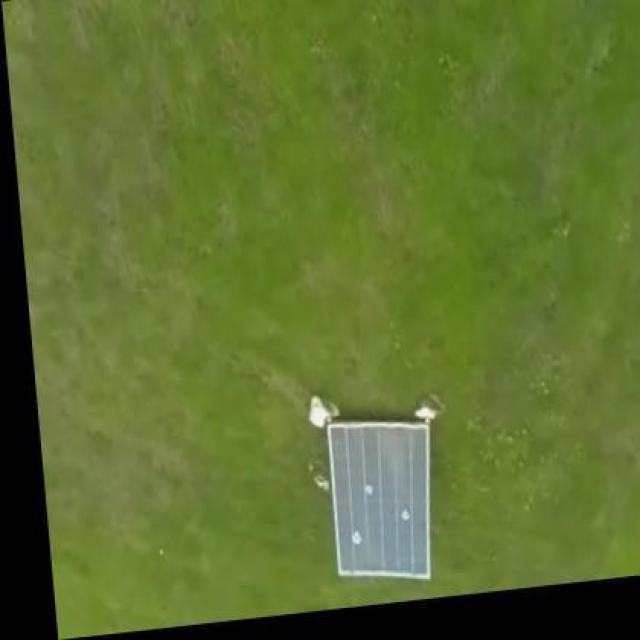soiled: (328, 420, 432, 582)
